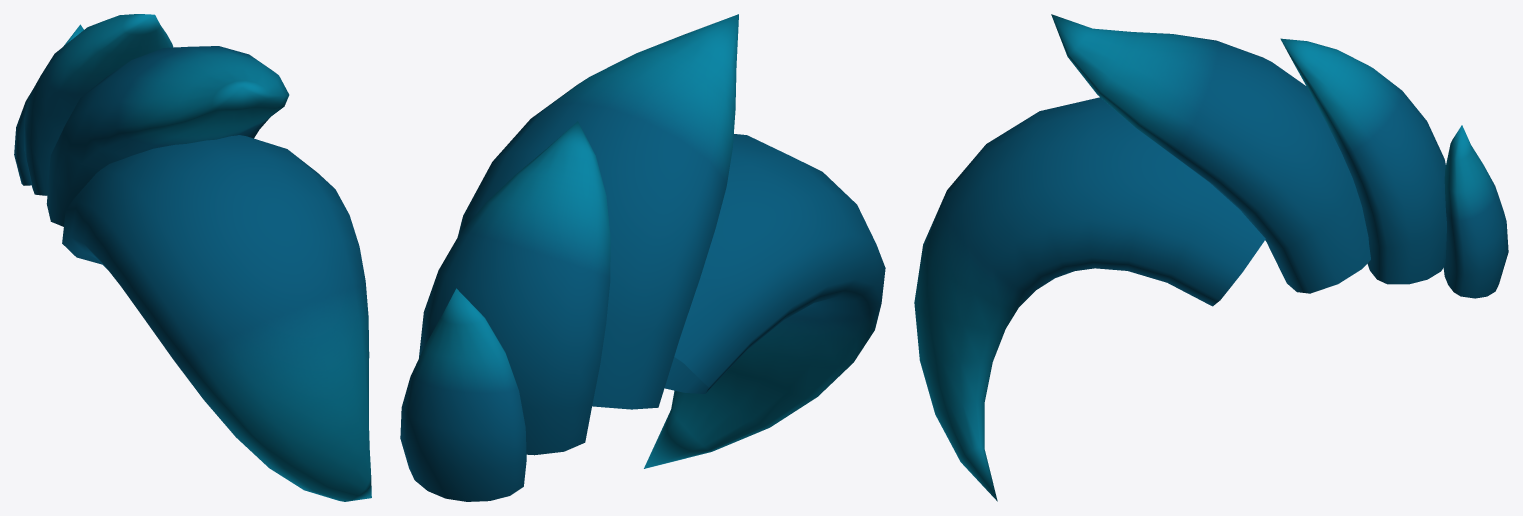
Rendered from Hair1.fbx.
The picture shows the model from 3 angles, left to right: view 1: azimuth 30°, elevation 25°; view 2: azimuth 150°, elevation 25°; view 3: azimuth 270°, elevation 25°; orthographic projection. The views are drawn at different scales.
Visible parts, largest first — view 1: Hair1; view 2: Hair1; view 3: Hair1.
Part boxes in pixels (bbox=[...]): Hair1: bbox=[14, 14, 371, 501]; Hair1: bbox=[400, 14, 885, 501]; Hair1: bbox=[914, 14, 1508, 501].
Size of the model in its own units: 0.1485 by 0.2502 by 0.3097.
